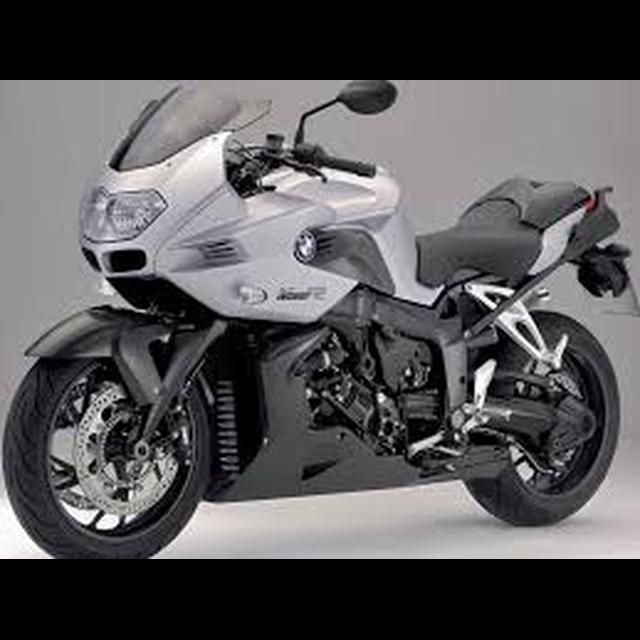motorcycle: (0, 77, 640, 561)
